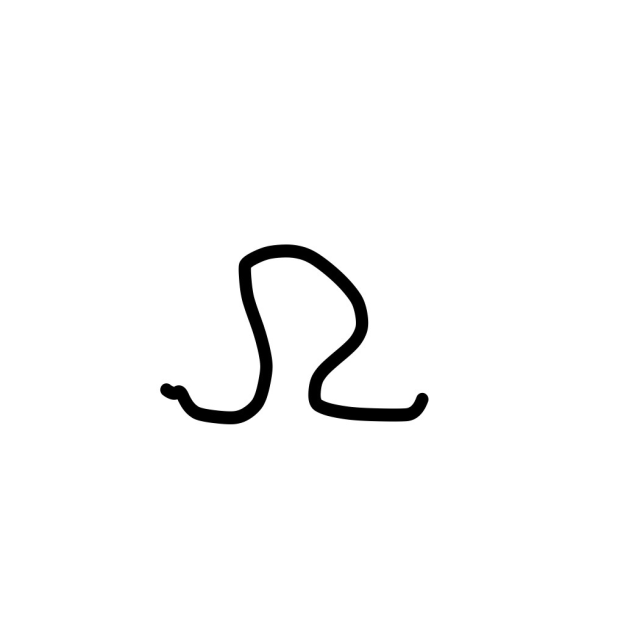ohms: (84, 155, 553, 507)
